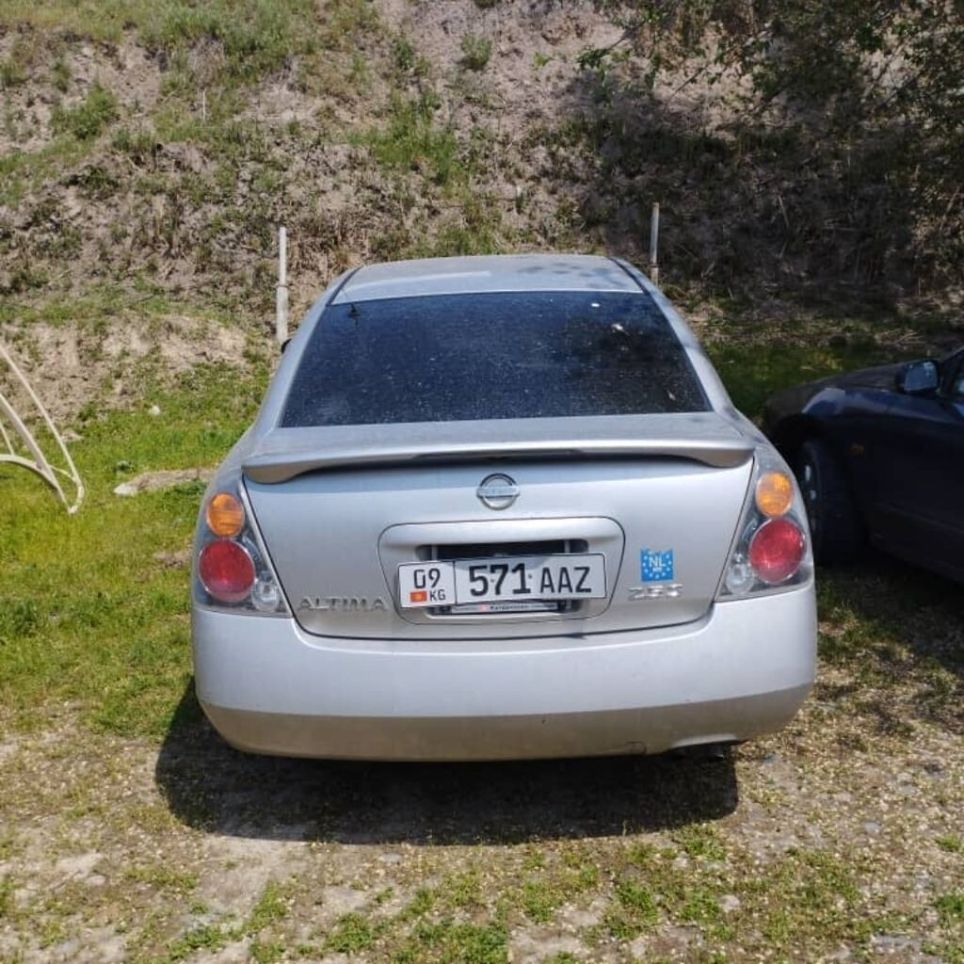license plate: (400, 555, 607, 610)
truck: (200, 256, 821, 765)
